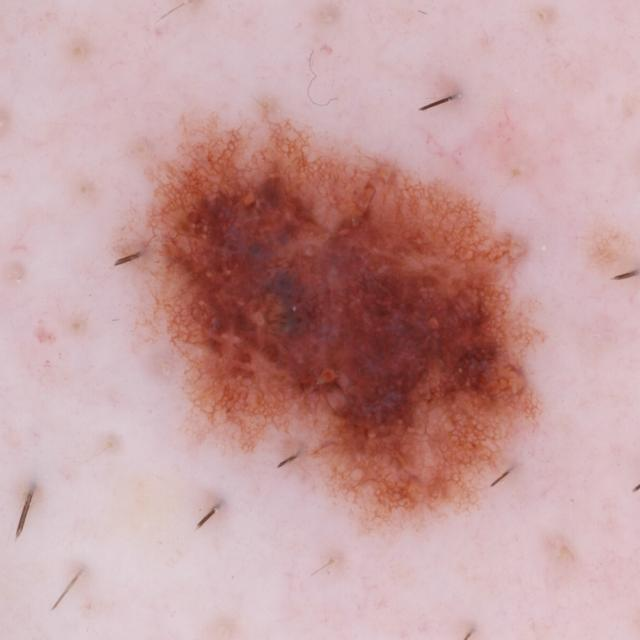Benign: (132, 115, 540, 530)
